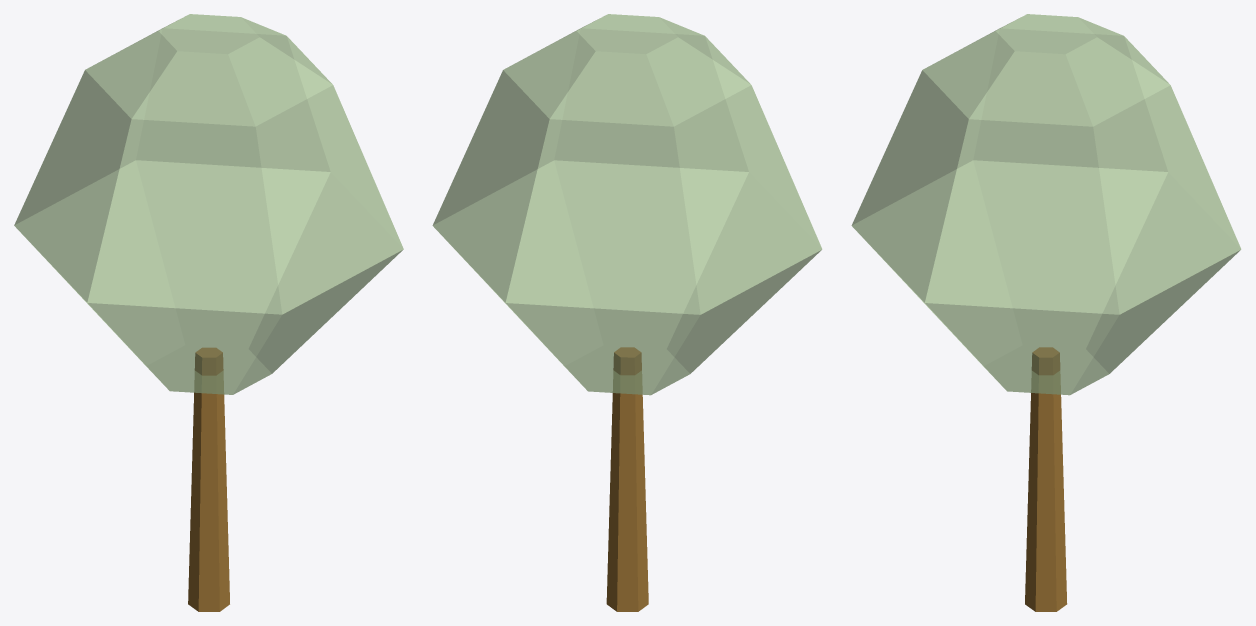
File: Tree1.gltf
3 renders of one model, left to right at view 1: azimuth 30°, elevation 25°; view 2: azimuth 150°, elevation 25°; view 3: azimuth 270°, elevation 25°, orthographic.
Parts seen in each view (by area): view 1: PlantFinal._m_1.001; view 2: PlantFinal._m_1.001; view 3: PlantFinal._m_1.001.
Boxes of the visible parts, x1,y1,x2,y2 form: PlantFinal._m_1.001: (14,14,403,611); PlantFinal._m_1.001: (432,14,822,611); PlantFinal._m_1.001: (851,14,1241,611).
Bounding box in the file's own units: 7.94 × 13.66 × 8.47.
